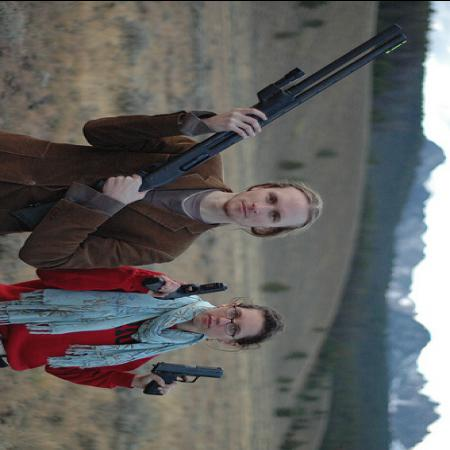Pistol: (145, 361, 227, 397), (139, 278, 230, 302)
